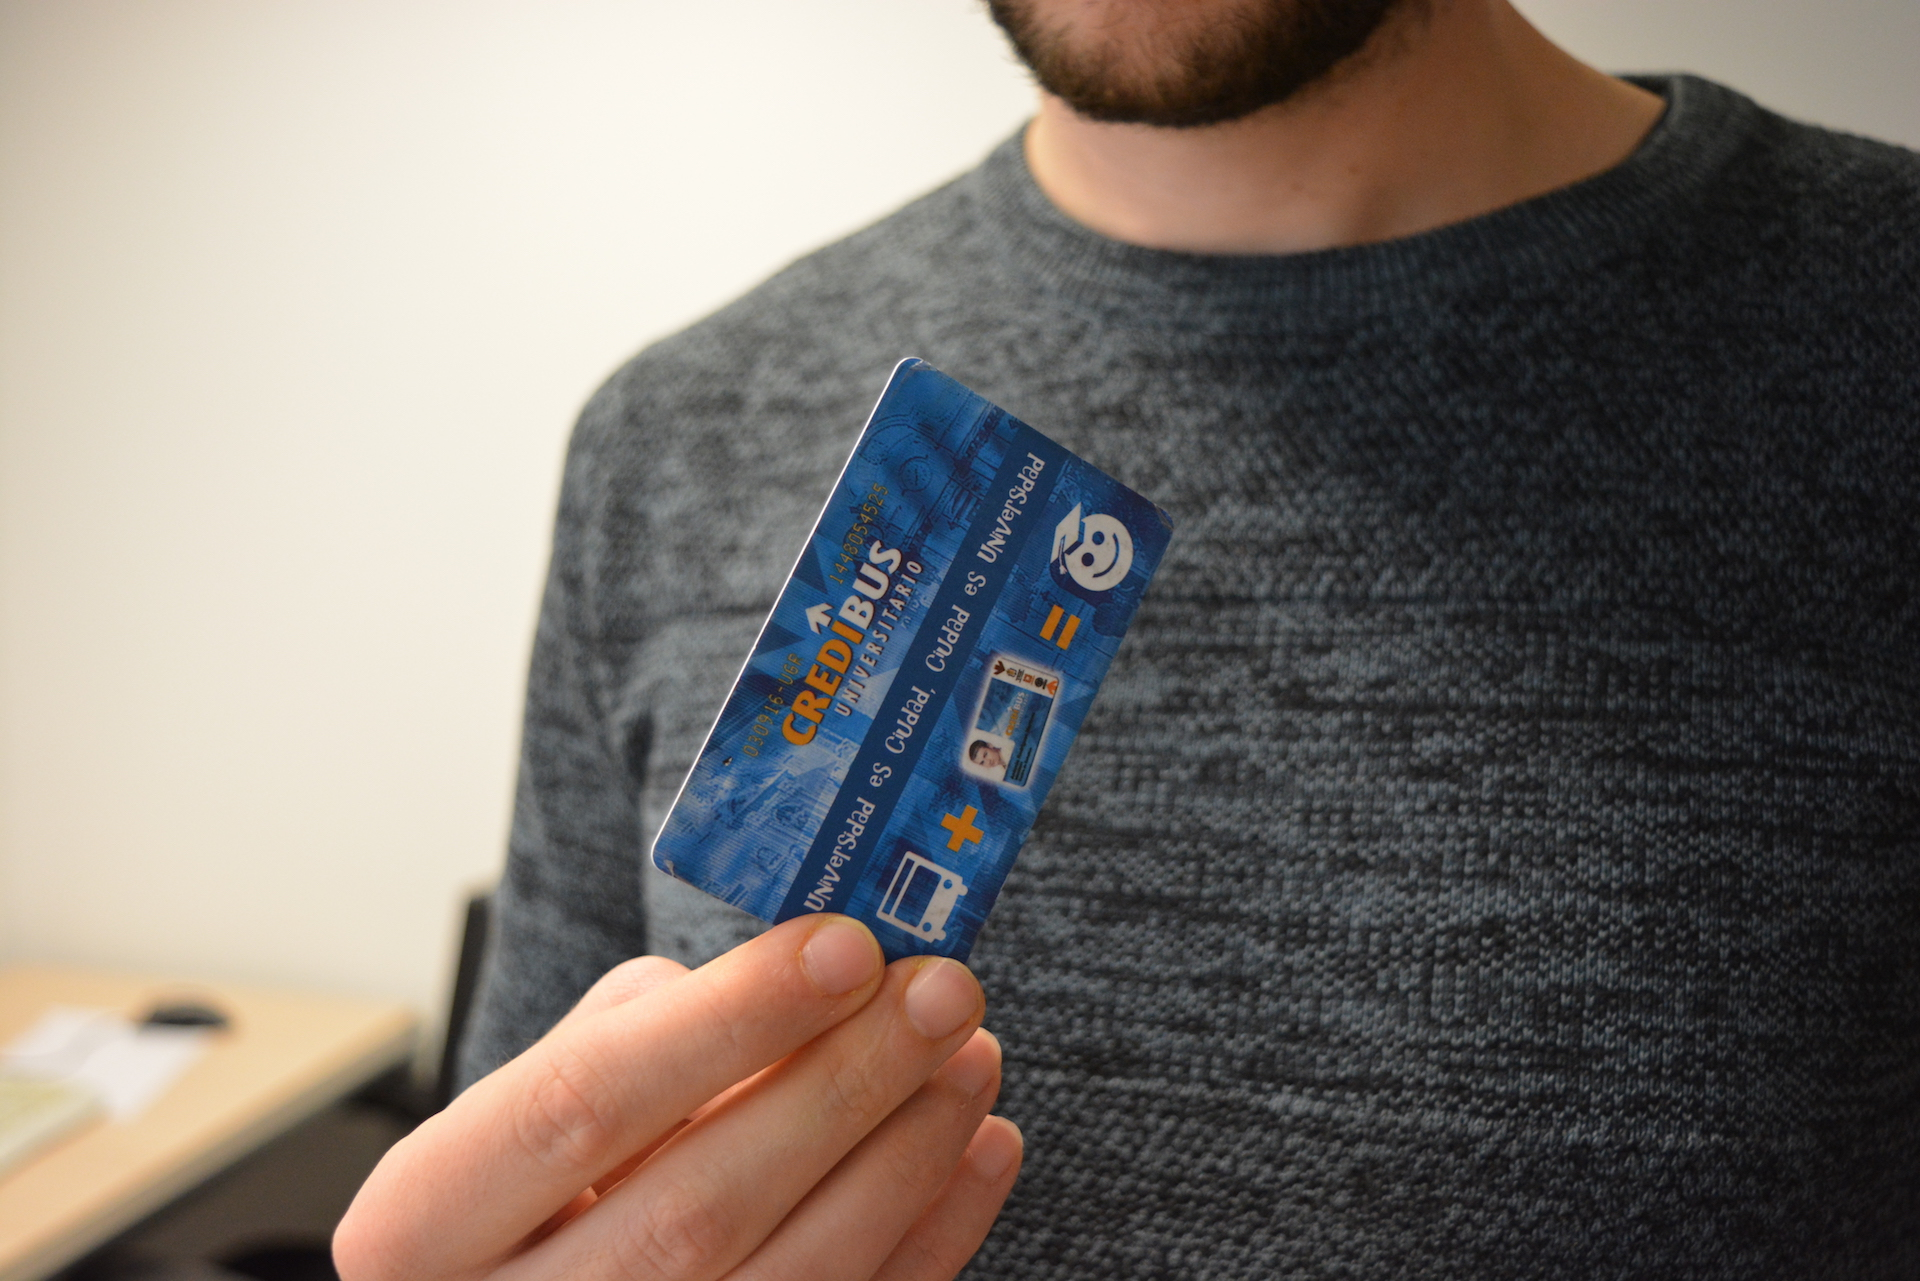tarjeta: (648, 352, 1179, 975)
